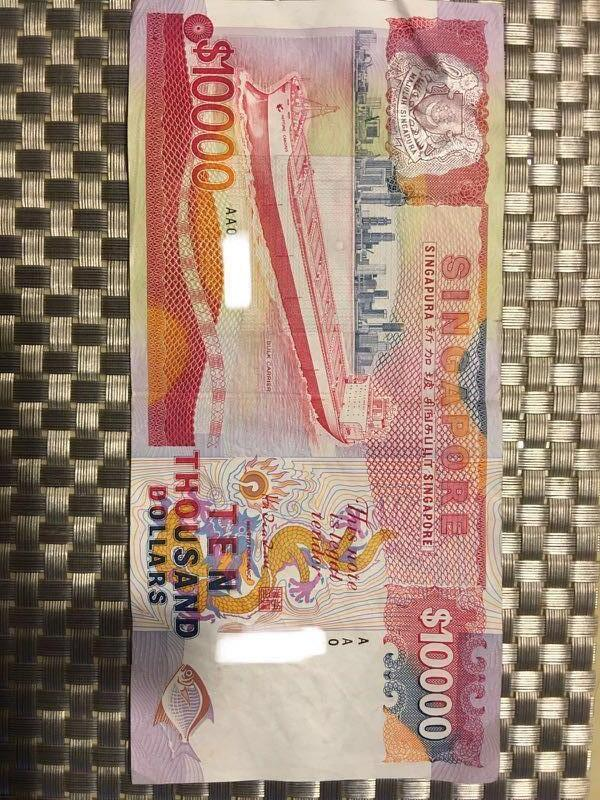10000SingaporeDollar: (137, 0, 503, 775)
